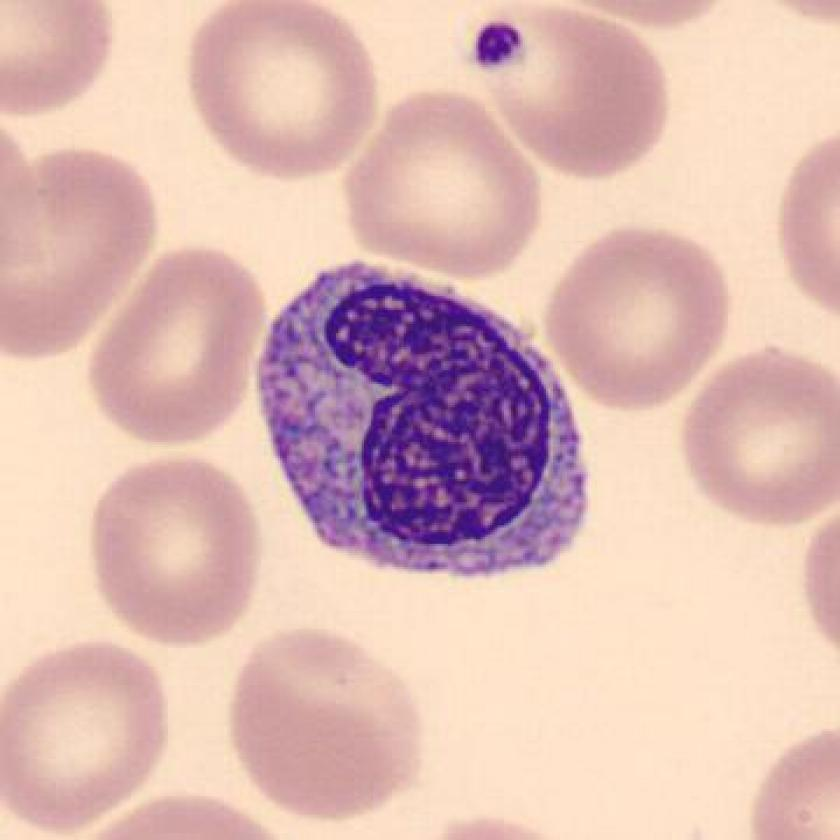monocyte: (237, 242, 612, 605)
